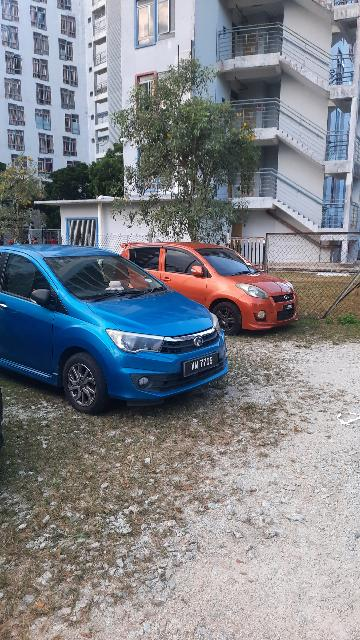License_Plate: (181, 353, 226, 377), (283, 305, 297, 312)
car: (1, 241, 239, 418), (119, 240, 303, 336)
